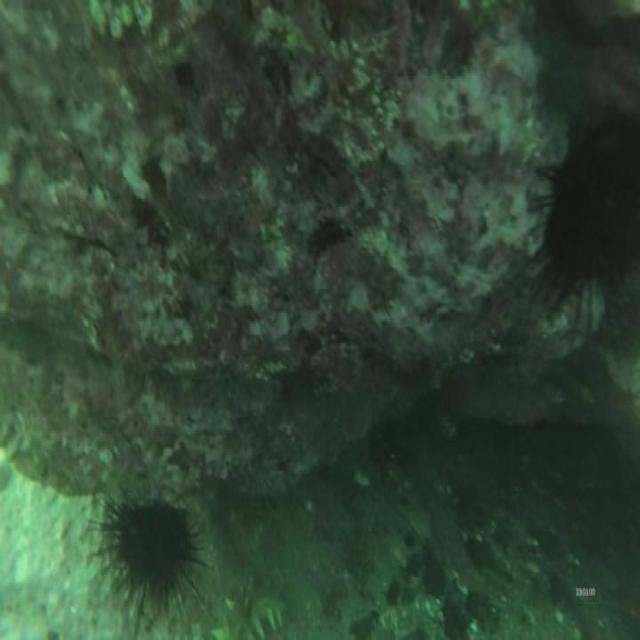echinus: (549, 123, 640, 291), (115, 506, 192, 597)
holothurian: (209, 586, 290, 640)
